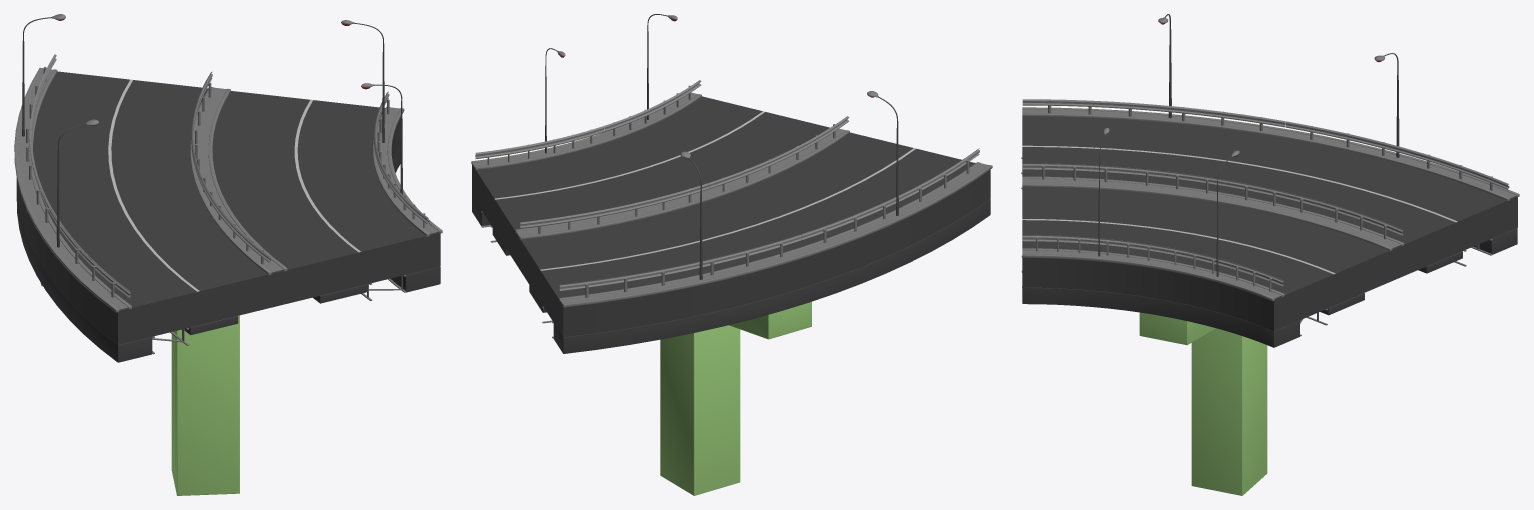
Rendered from SM_highway_platform_curve_45.fbx.
3 views of the same model, side by side, from view 1: azimuth 30°, elevation 25°; view 2: azimuth 150°, elevation 25°; view 3: azimuth 270°, elevation 25° (orthographic). The views are drawn at different scales.
Visible parts, largest first — view 1: Object1284850; view 2: Object1284850; view 3: Object1284850.
Boxes of the visible parts, <box> form: Object1284850: <box>14,14,442,495</box>; Object1284850: <box>471,14,992,495</box>; Object1284850: <box>1021,14,1519,495</box>.
Bounding box in the file's own units: 1168 × 1118 × 1282.
